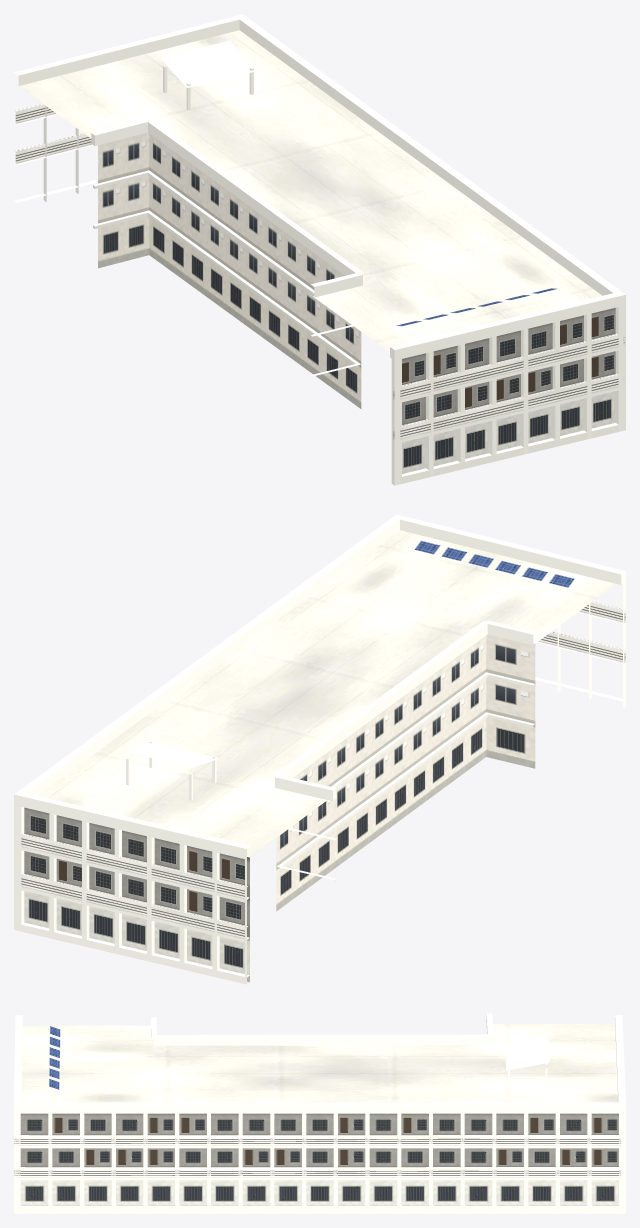
File: pppdc-west.glb
The picture shows the model from 3 angles, top to bottom: view 1: azimuth 30°, elevation 25°; view 2: azimuth 150°, elevation 25°; view 3: azimuth 270°, elevation 25°; orthographic projection. The views are drawn at different scales.
Parts seen in each view (by area): view 1: PPPDC-west; view 2: PPPDC-west; view 3: PPPDC-west.
Part boxes in pixels (x1=…): PPPDC-west: x1=14, y1=14, x2=625, y2=485; PPPDC-west: x1=14, y1=514, x2=625, y2=984; PPPDC-west: x1=14, y1=1013, x2=625, y2=1213.
Size of the model in its own units: 20.91 by 13.5 by 58.92.
1 material, 1 textured.
